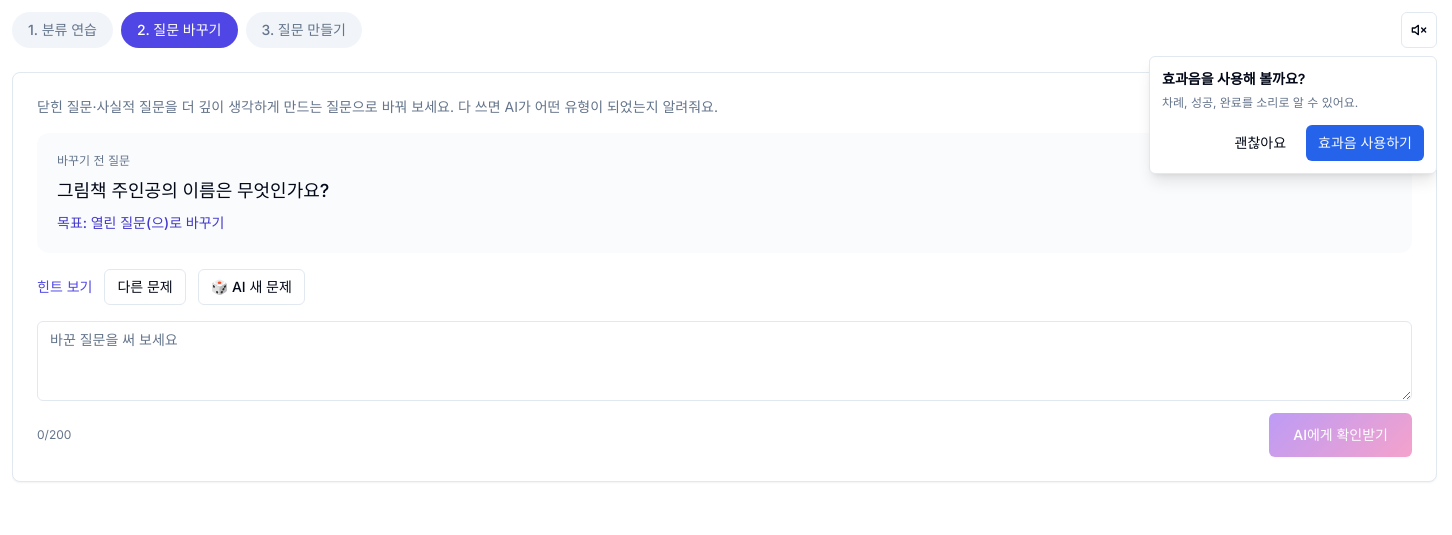
Test: 연습 질문 전달 › 실시간 문제 확인 시간이 지나면 답을 지우거나 판정 요청을 보내지 않는다
Click the button "🎲 AI 새 문제".
click(251, 287)  # box [198, 269, 305, 305]
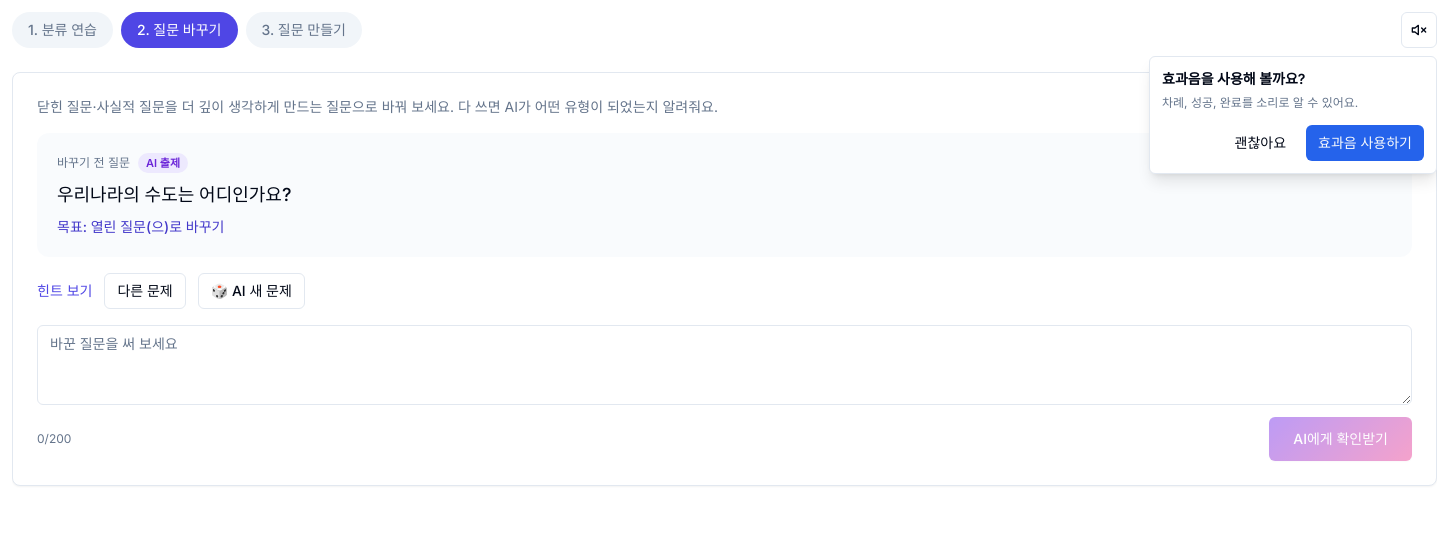
Expected: the text "우리나라의 수도는 어디인가요?" is shown, [57, 184, 291, 205]
Type "수도가 달랐다면 우리 생활은 어떻게 바뀌었을까요?" into the text box with placeholder "바꾼 질문을 써 보세요".
click(724, 365); type("수도가 달랐다면 우리 생활은 어떻게 바뀌었을까요?")  # box [37, 325, 1412, 405]
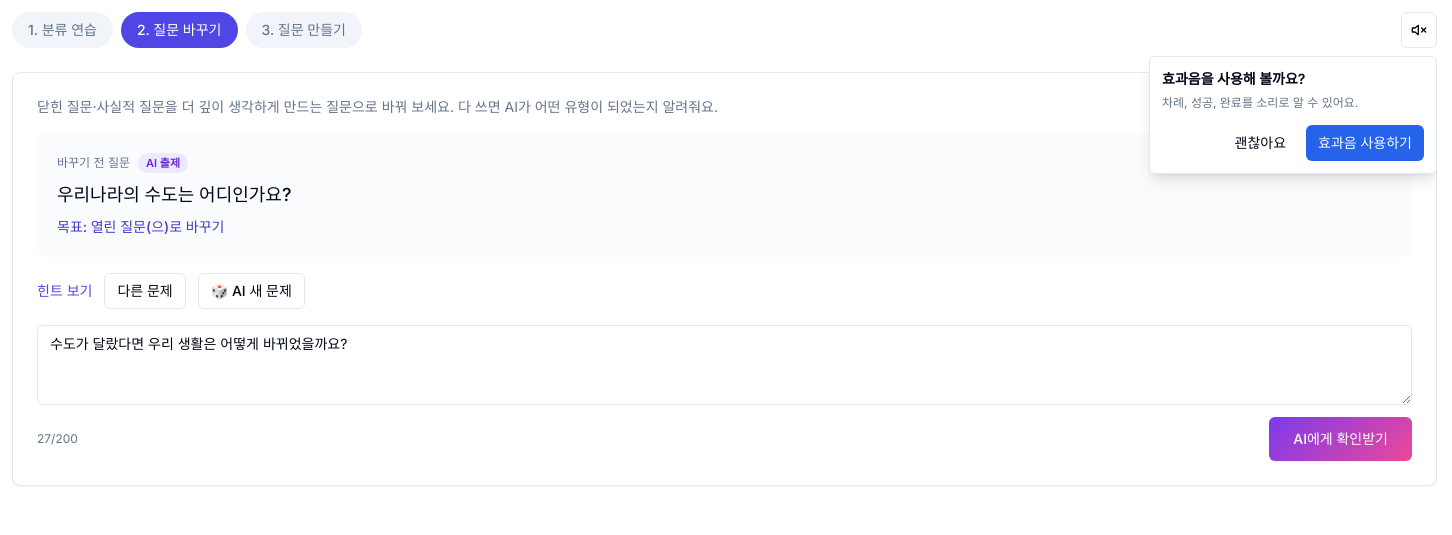
Click the button "AI에게 확인받기".
click(1341, 439)  # box [1269, 417, 1412, 461]
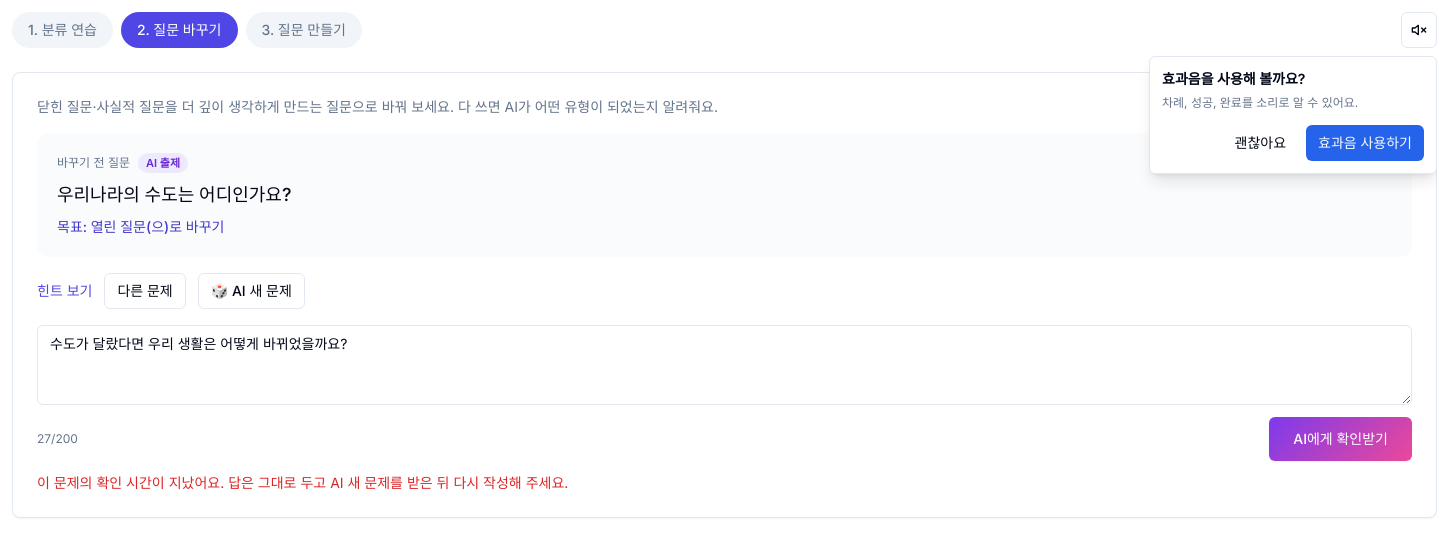
Expected: the text "이 문제의 확인 시간이 지났어요. 답은 그대로 두고 AI 새 문제를 받은 뒤 다시 작성해 주세요." is shown, [37, 474, 568, 491]
